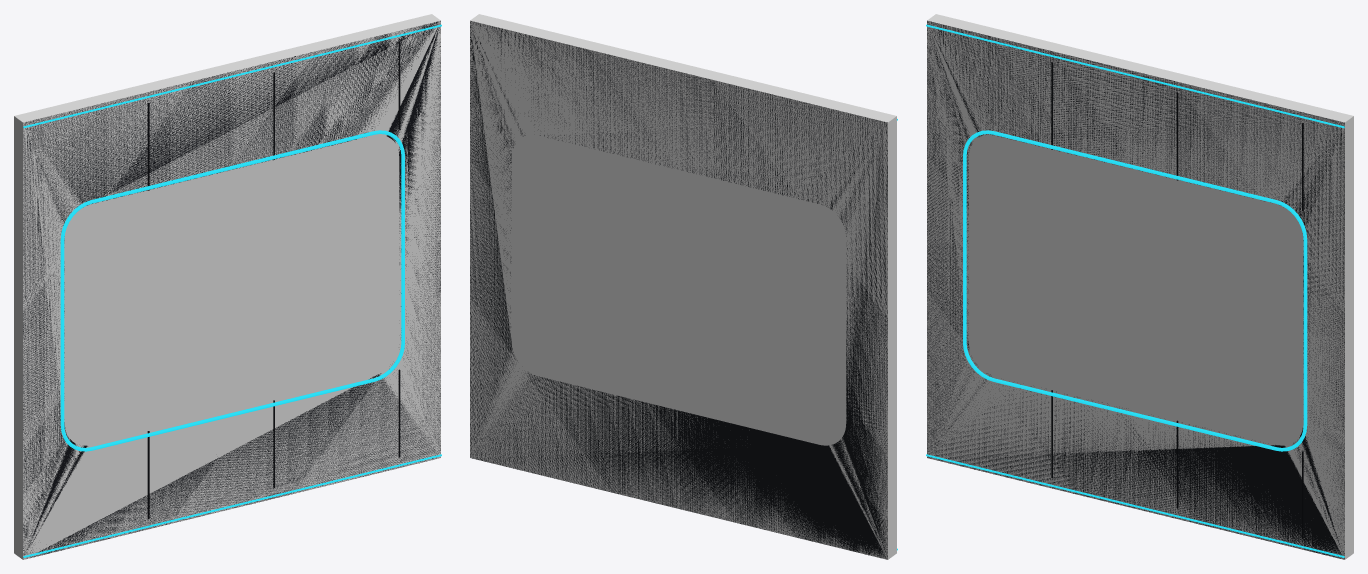
Rendered from Arch_Wall_Window_4m.glb.
The picture shows the model from 3 angles, left to right: view 1: azimuth 30°, elevation 25°; view 2: azimuth 150°, elevation 25°; view 3: azimuth 330°, elevation 25°; orthographic projection.
Visible parts, largest first — view 1: Arch_Wall_Window_4m_COL, Arch_Wall_Window_4m; view 2: Arch_Wall_Window_4m_COL, Arch_Wall_Window_4m; view 3: Arch_Wall_Window_4m_COL, Arch_Wall_Window_4m.
Boxes of the visible parts, x1,y1,x2,y2 form: Arch_Wall_Window_4m_COL: (14,14,440,559); Arch_Wall_Window_4m: (23,21,441,559); Arch_Wall_Window_4m_COL: (470,14,896,559); Arch_Wall_Window_4m: (470,21,897,559); Arch_Wall_Window_4m_COL: (927,14,1353,559); Arch_Wall_Window_4m: (926,21,1344,559).
Size of the model in its own units: 4 by 4 by 0.181.
